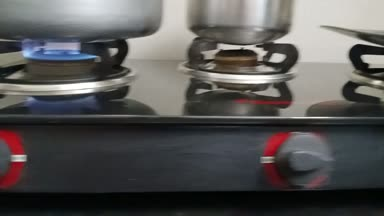flame_gas_off: (186, 37, 345, 193)
flame_gas_on: (0, 32, 145, 183)
